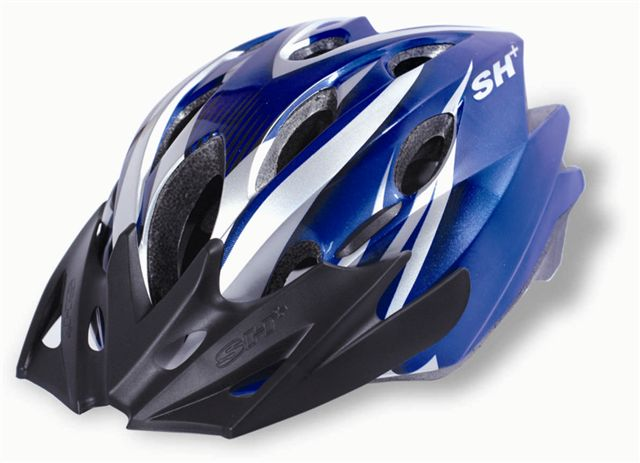helmet: (97, 28, 560, 405)
